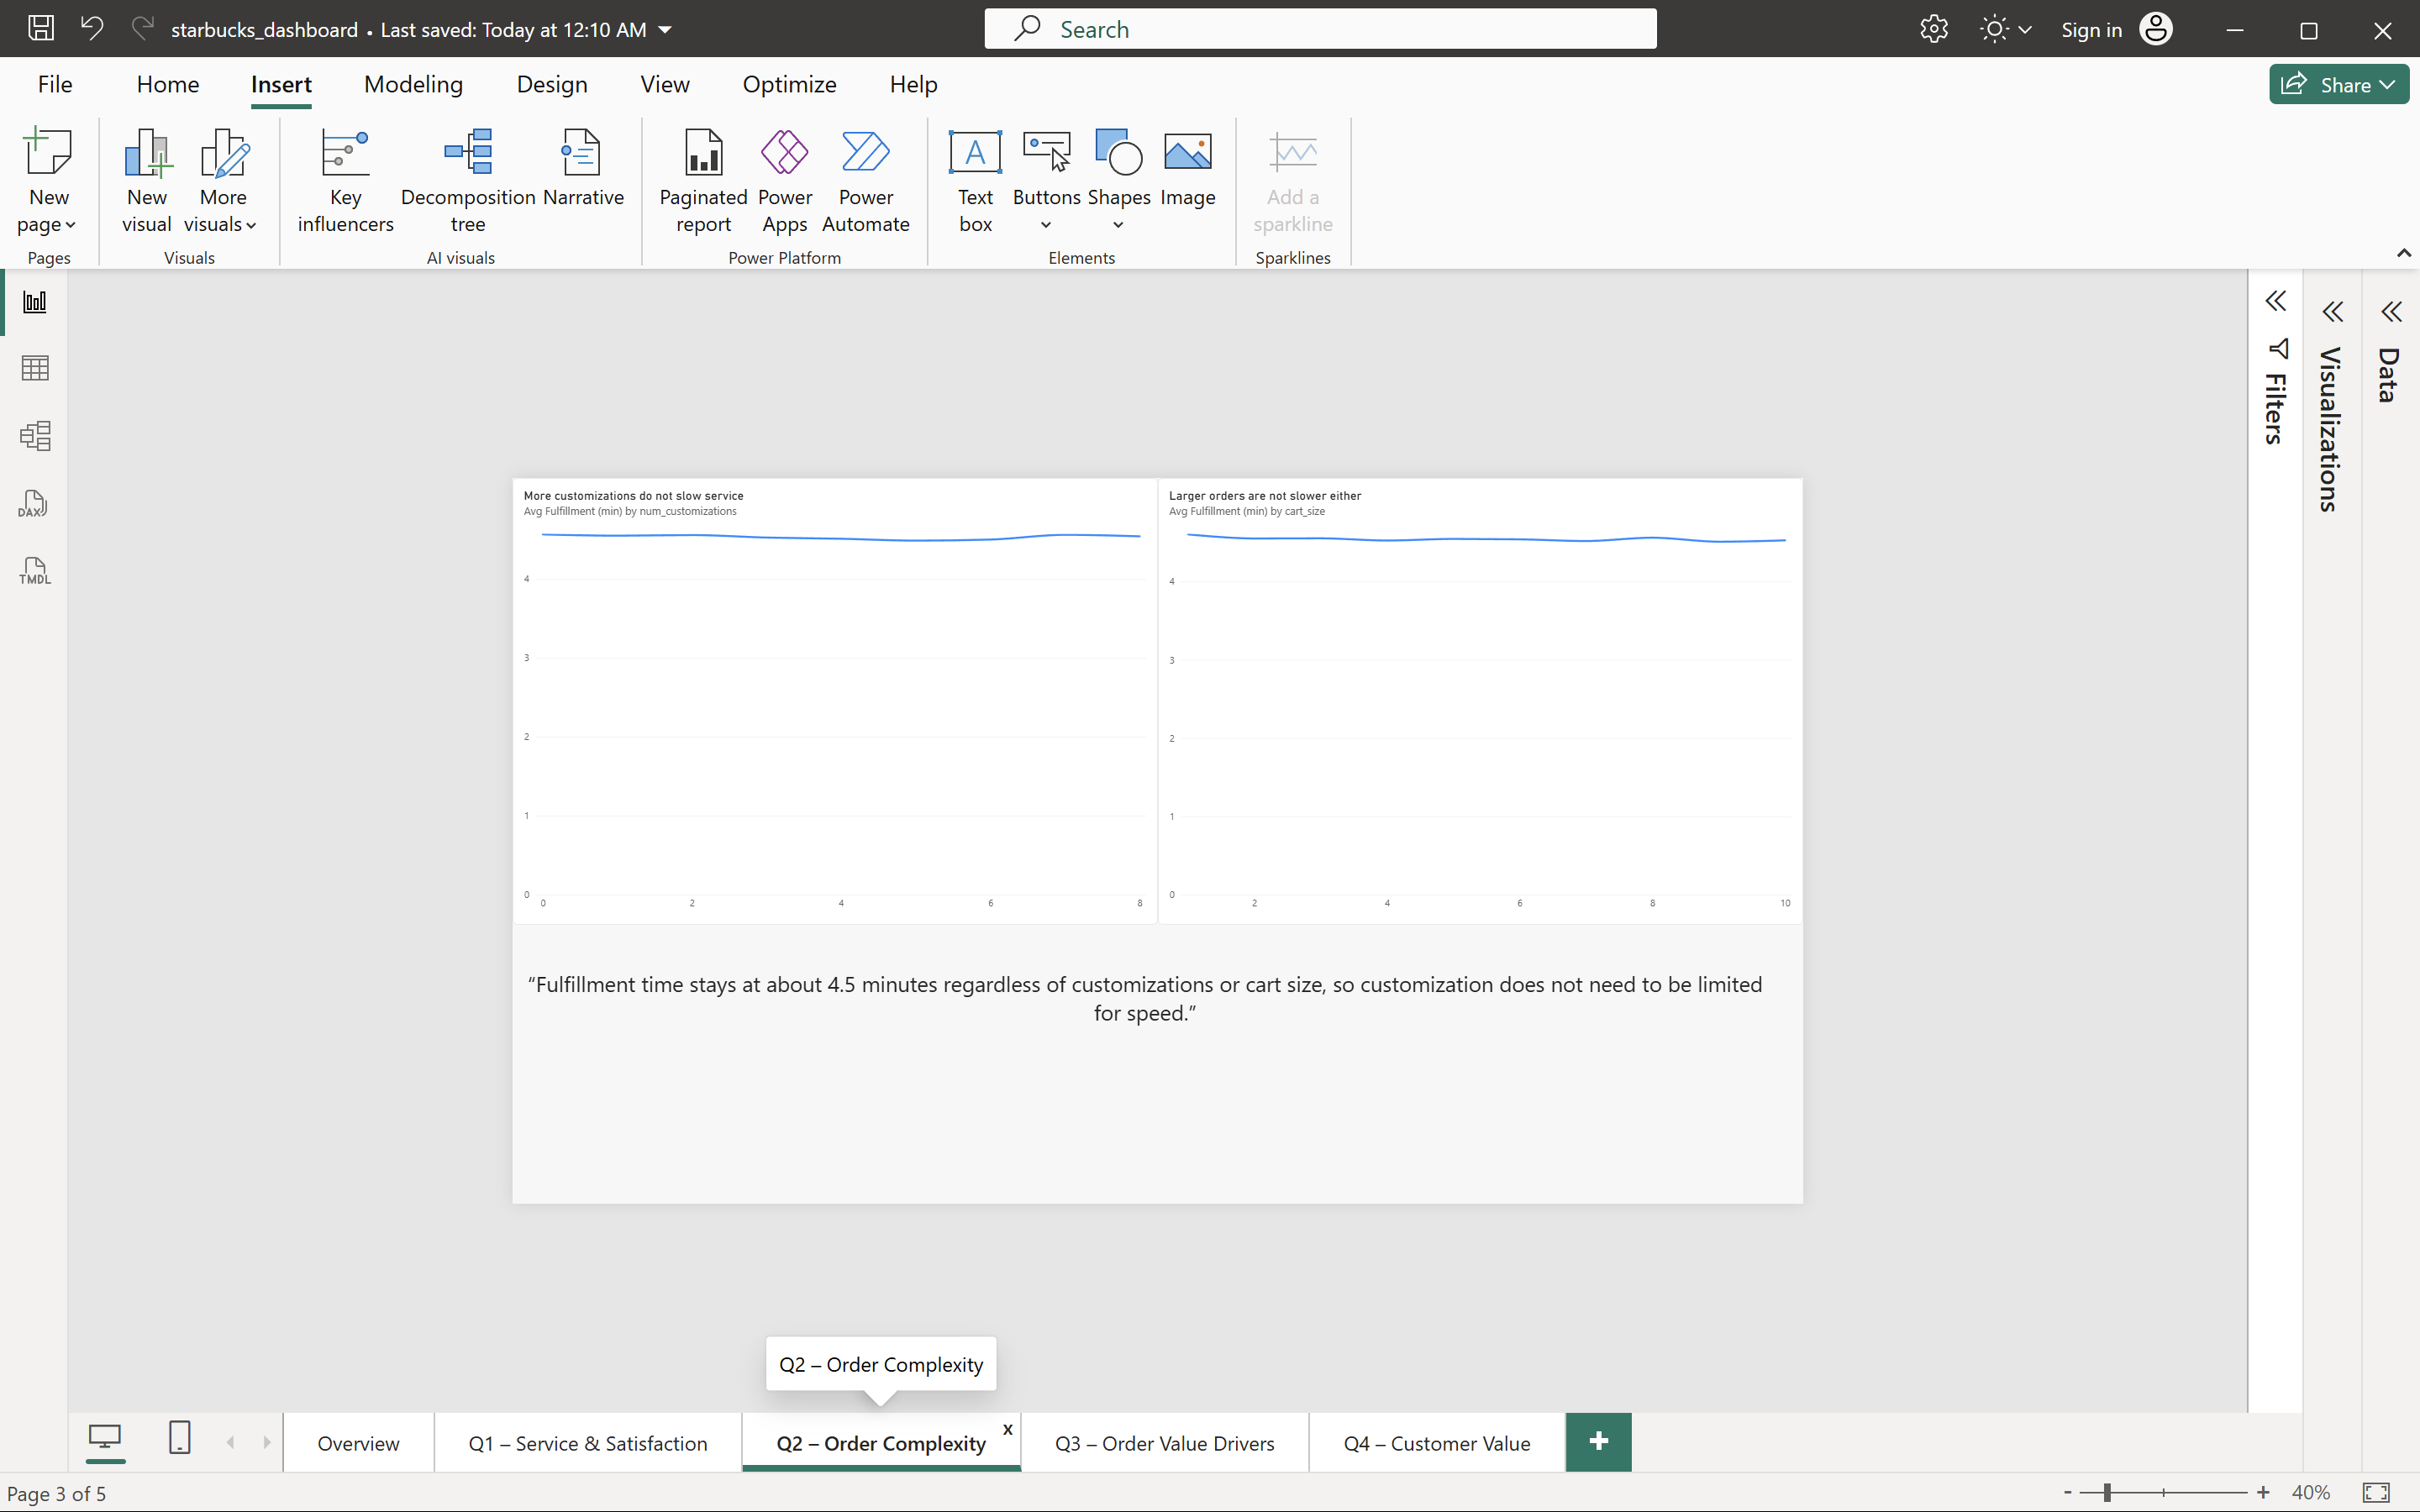

Layout of this report page (visuals, bound fields, positions):
{"tool":"powerbi","page":{"name":"Q2 – Order Complexity","canvas":[1920,1080],"ordinal":2},"visuals":[{"type":"lineChart","title":"More customizations do not slow service","fields":{"Category":["fact_orders.num_customizations"],"Y":["fact_orders.Avg Fulfillment (min)"]},"box":[0,0,960,665],"z":0},{"type":"lineChart","title":"\tLarger orders are not slower either","fields":{"Category":["fact_orders.cart_size"],"Y":["fact_orders.Avg Fulfillment (min)"]},"box":[960,0,960,665],"z":1000},{"type":"textbox","box":[0,730,1882.5,352.5],"z":2000}]}

Visuals, with their boxes on the page's 1920x1080 design canvas (x1, y1, x2, y2). These are canvas units, not pixel positions in the 2420x1512 screenshot, which may show the page scaled, cropped or inside an application window:
"More customizations do not slow service" lineChart: l=0, t=0, r=960, b=665
"	Larger orders are not slower either" lineChart: l=960, t=0, r=1920, b=665
textbox: l=0, t=730, r=1882, b=1082
